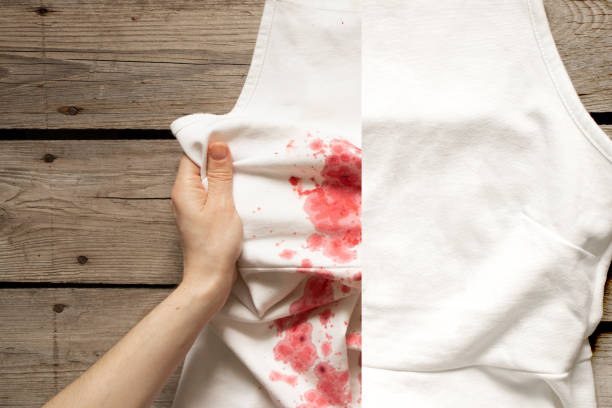blood: (257, 128, 360, 405)
